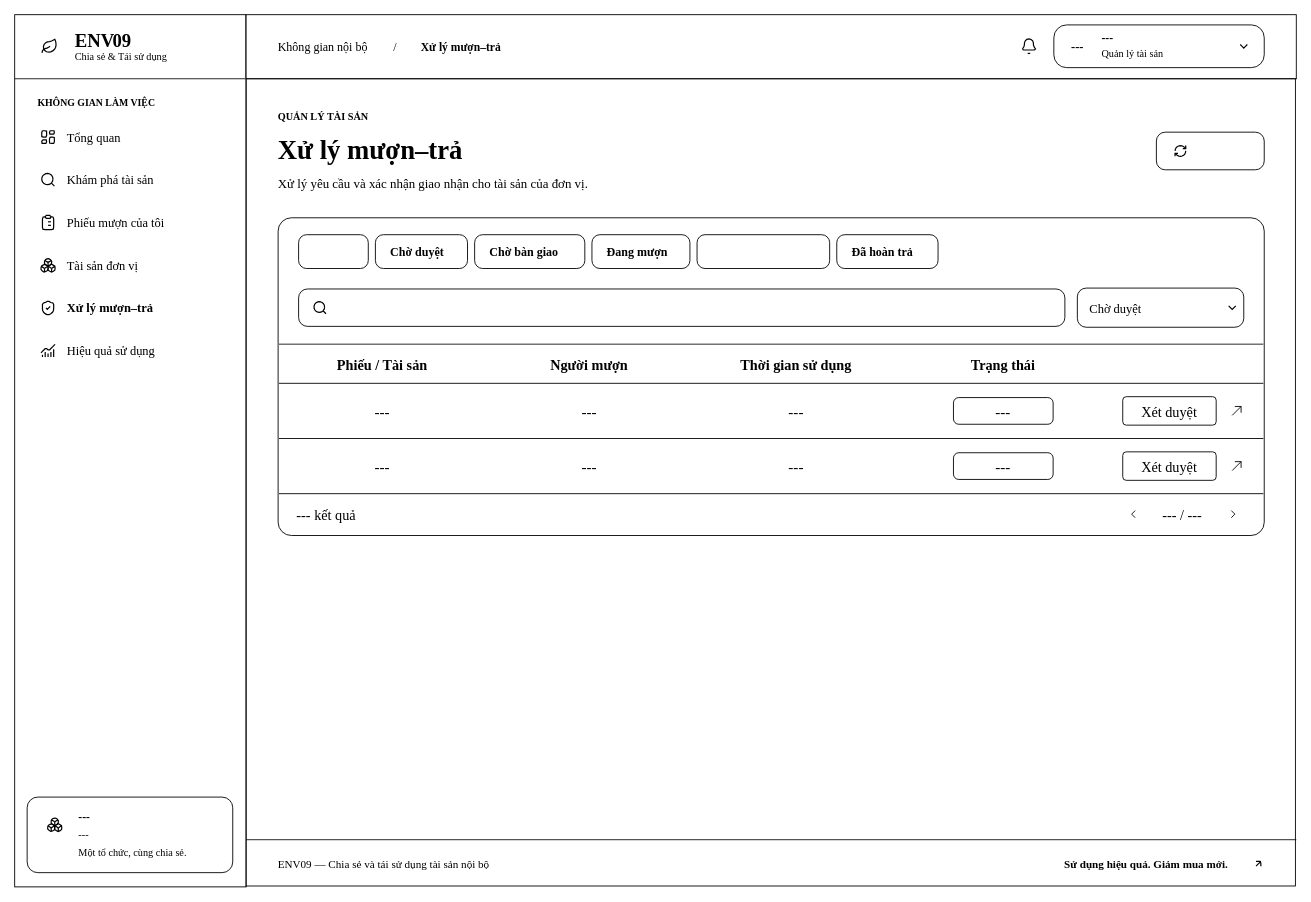
This 1311x902 diagram has some shape labels left out. Each missing label, with the box of its shape:
Chờ xác nhận trả: (696, 234, 830, 269)
Làm mới: (1155, 131, 1264, 170)
Tìm theo tên tài sản…: (336, 292, 1058, 322)
Tất cả: (298, 234, 368, 269)
